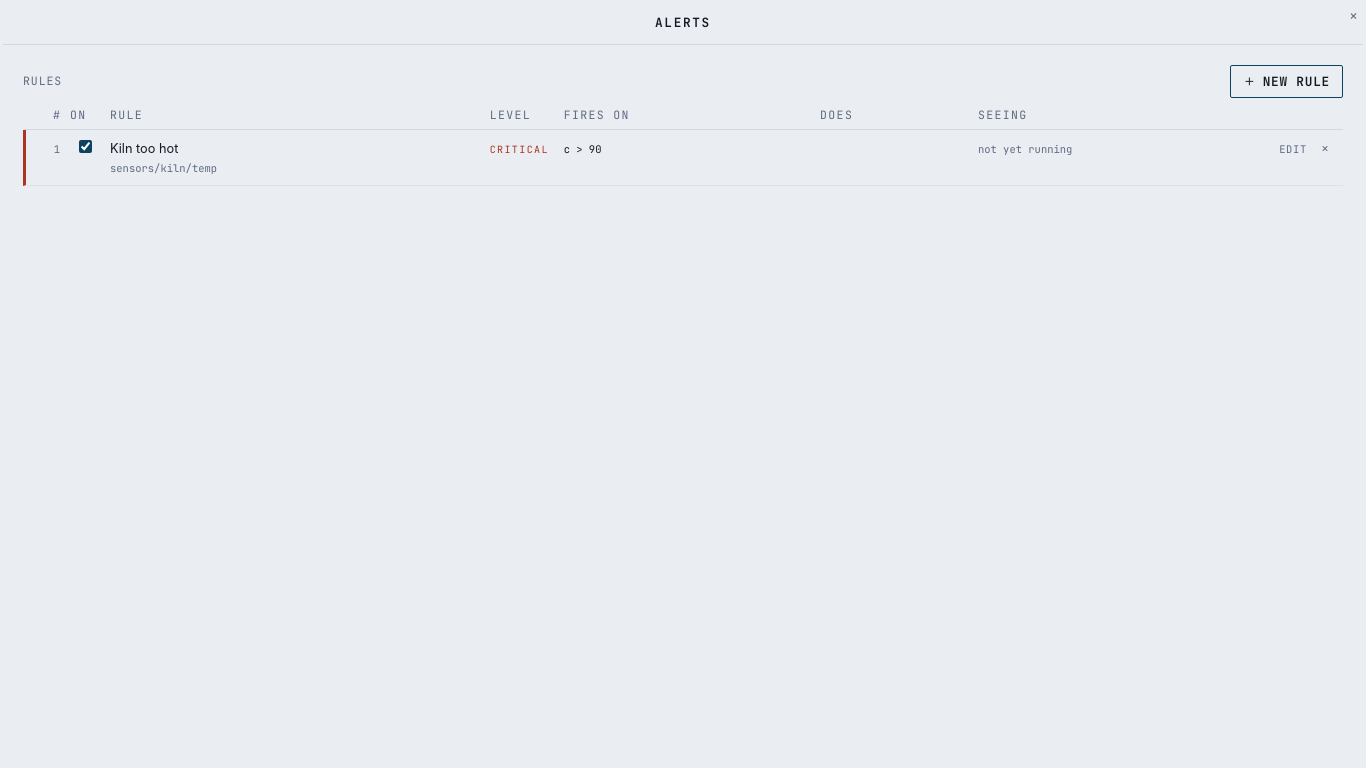
Test: AlertsPanel › offers one way out of a filled-in rule, and it is the one that asks
Click the button "New rule": (1286, 81) [1230,65,1343,98]
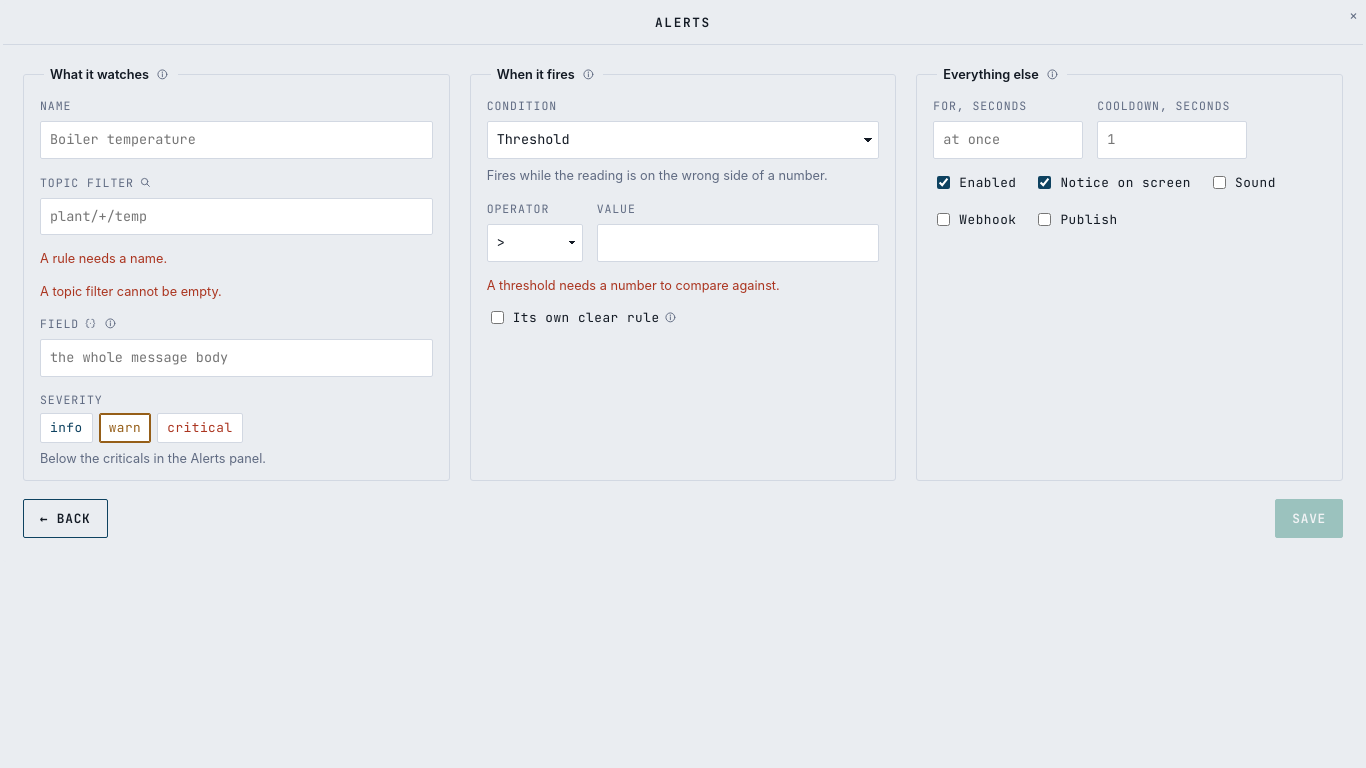
In the field labelled "Name": (236, 140) [40,121,433,159], type "Kiln stopped talking"
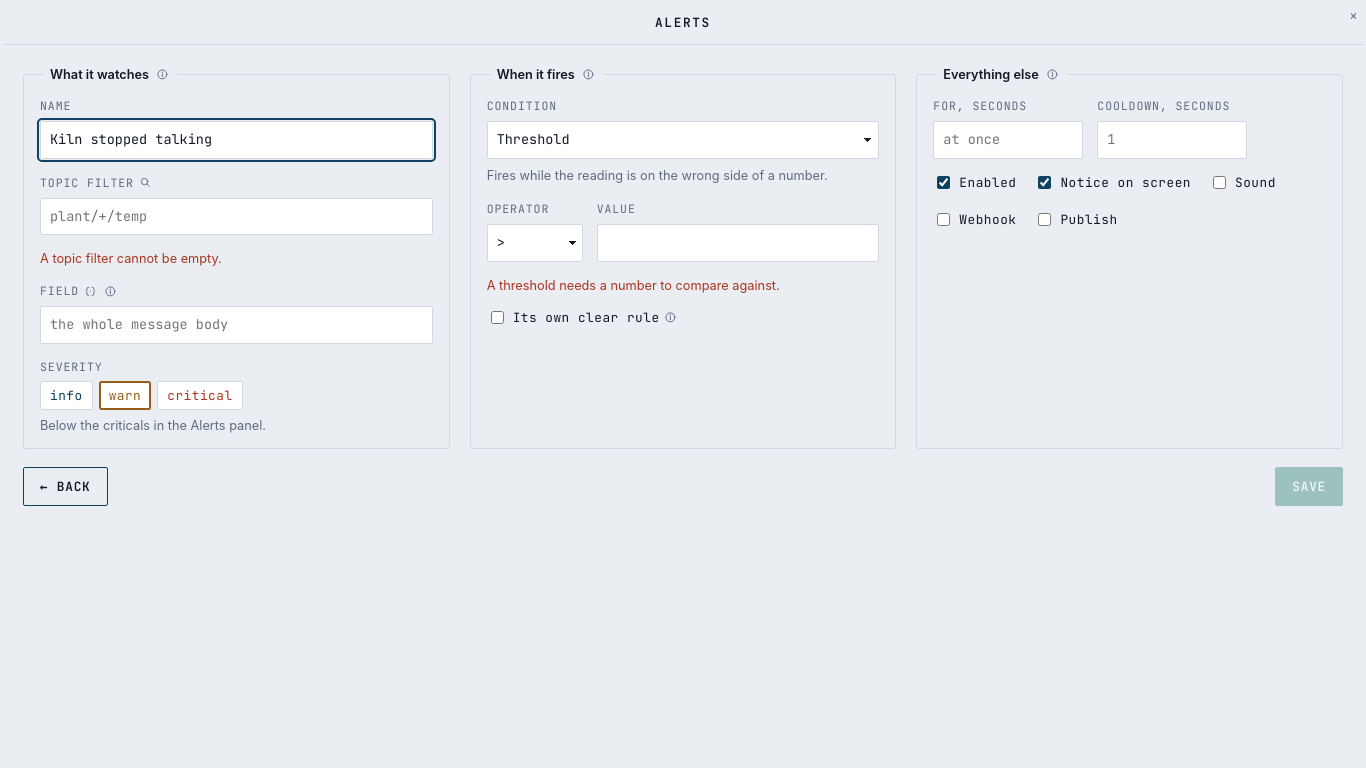
Click the button "← Back": (65, 486) [23,466,108,506]
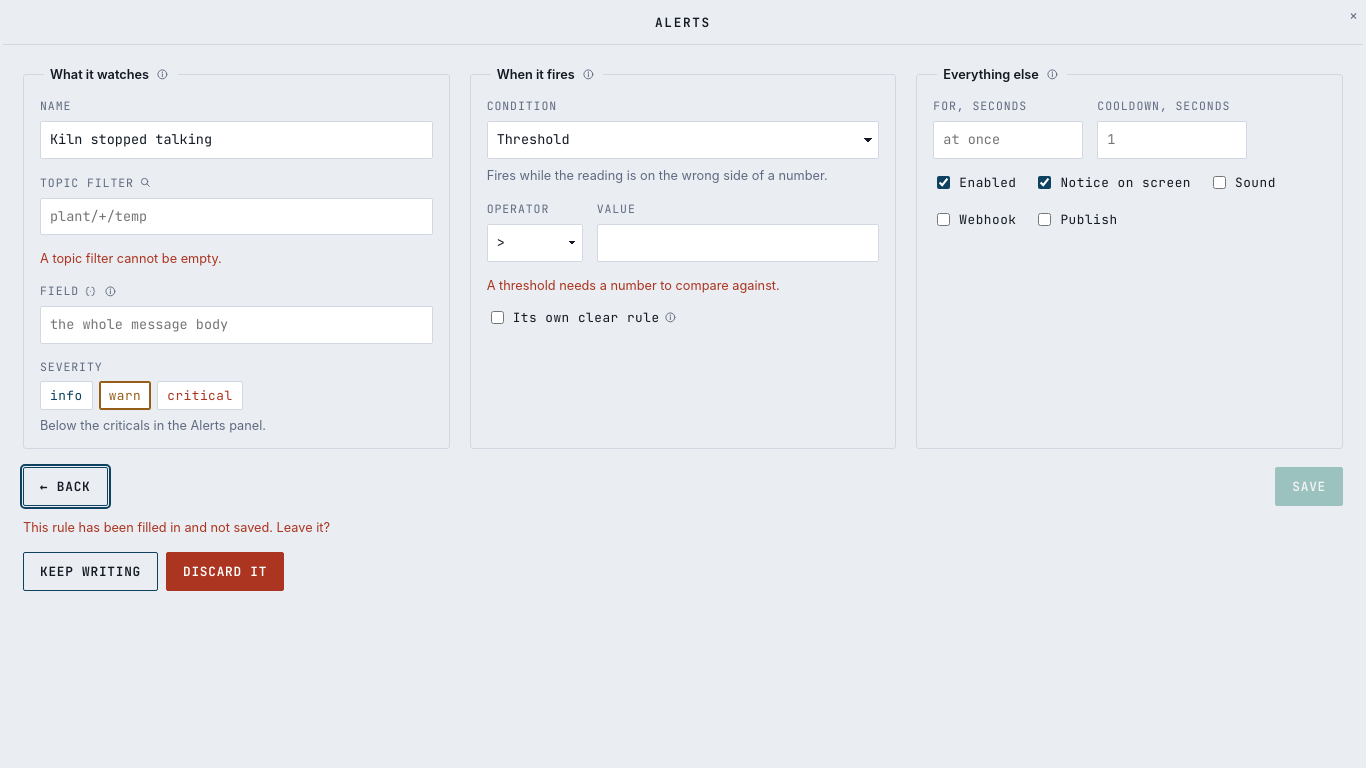
Now the dialog named "Leave without saving?" is shown, box [23,520,330,591]
